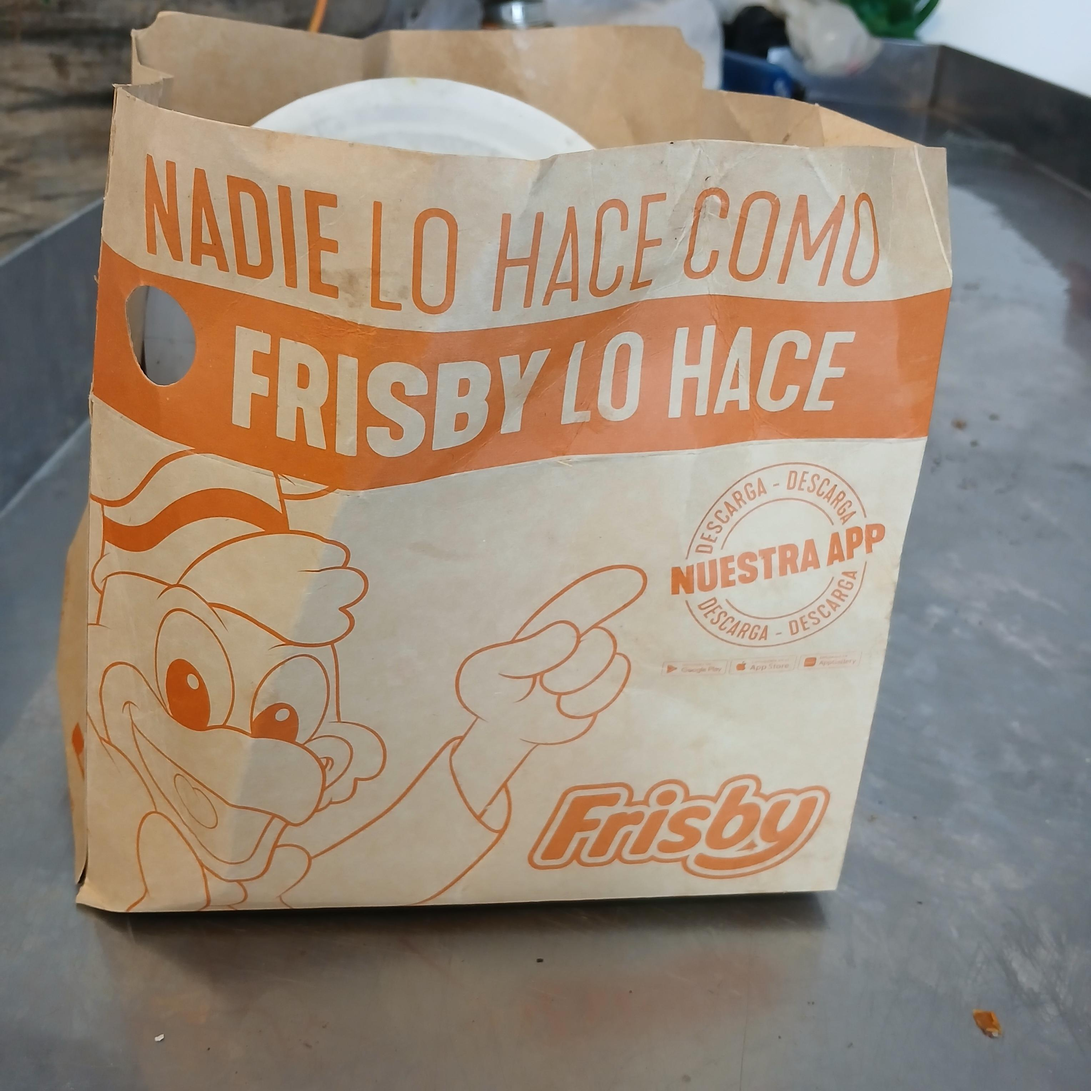Carton: (64, 9, 957, 914)
